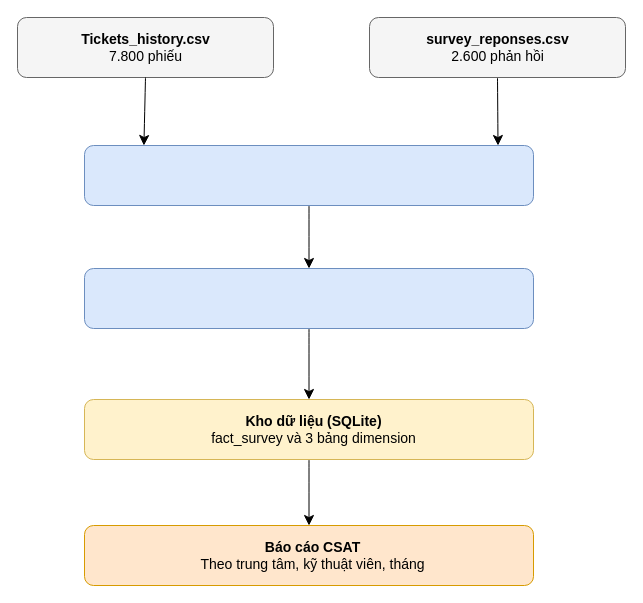
Some shapes in this 643 by 603 pixel diagram are drawn without their labels. Here are the shapes that lost their labels. From the top down, the centre of each, then its label:
At (309,175): "Staging (SQLite) stg_ticket, stg_survey_response".
At (309,298): "Làm sạch và ghép (ETL) Lọc DA_DONG, kiểm tra, LEFT JOIN".
